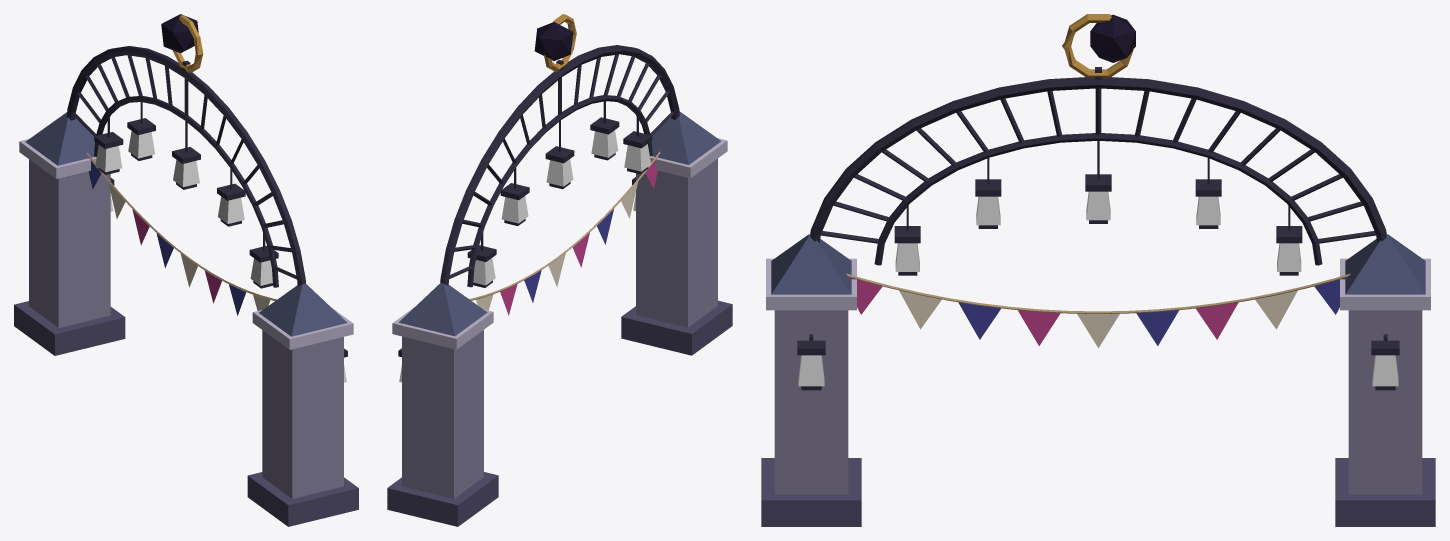
The model's file is Fair_LanternArch.fbx.
The picture shows the model from 3 angles, left to right: view 1: azimuth 30°, elevation 25°; view 2: azimuth 150°, elevation 25°; view 3: azimuth 270°, elevation 25°; orthographic projection. The views are drawn at different scales.
Parts seen in each view (by area): view 1: Fair_LanternArch; view 2: Fair_LanternArch; view 3: Fair_LanternArch.
Part boxes in pixels (<box>): Fair_LanternArch: <box>14,14,358,526</box>; Fair_LanternArch: <box>387,14,732,526</box>; Fair_LanternArch: <box>761,14,1435,526</box>.
Size of what is drawn, in the model's own units: 1.58 by 8.12 by 10.1.
2 materials, 1 textured.
